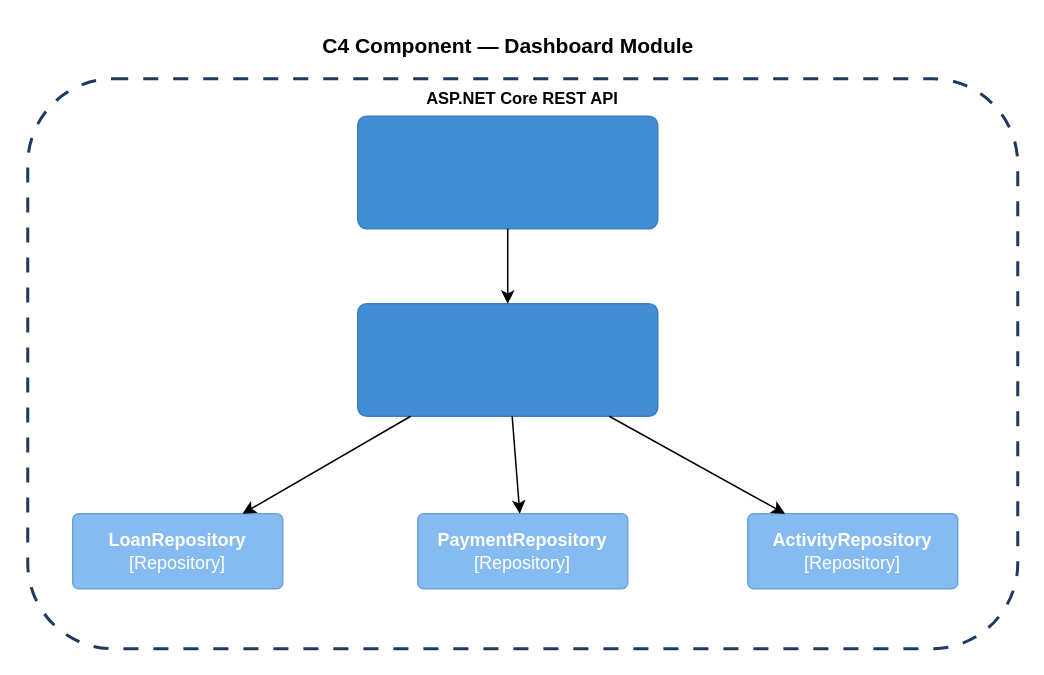
Some shapes in this 1044 by 675 pixel diagram are drawn without their labels. The centre of each missing label's shape, as x and y in pixels:
"DashboardController [Controller] summary, active loans, recent activity" belongs at point (507, 172).
"DashboardService [Service] Aggregates data from loans, payments, activity" belongs at point (507, 359).
